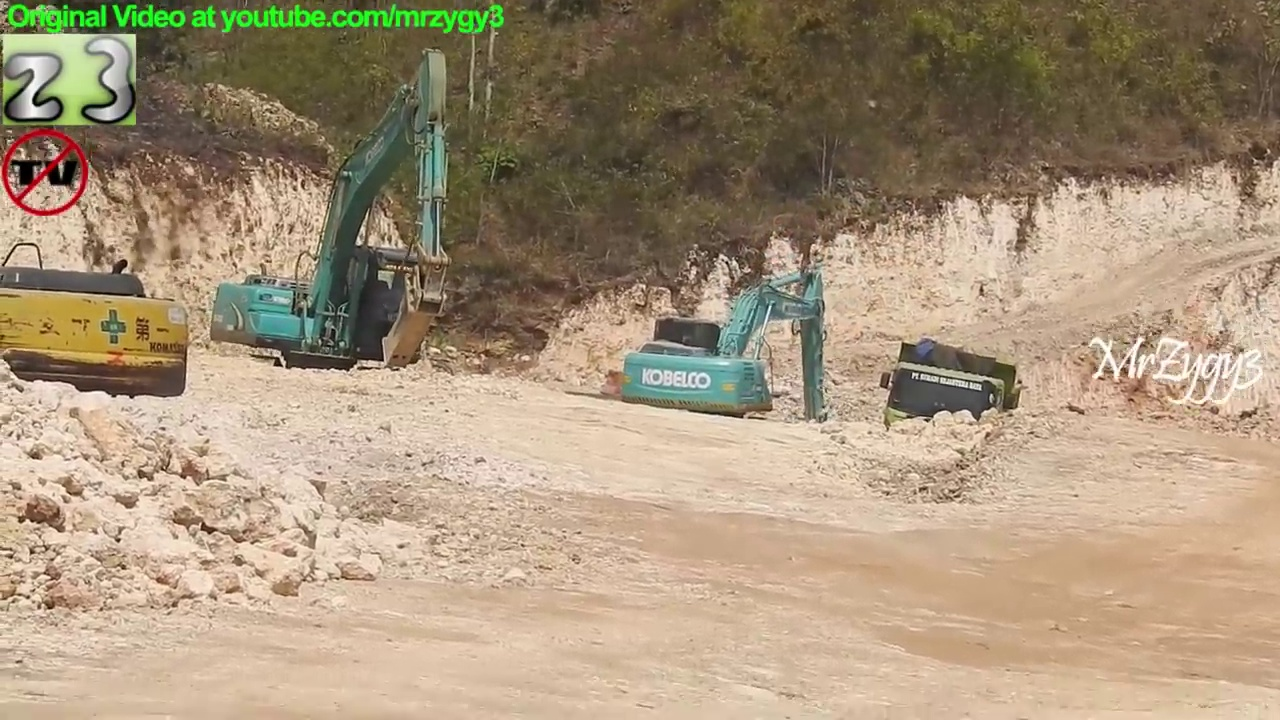excavator: (200, 43, 457, 398), (607, 257, 843, 459), (1, 240, 195, 420)
truck: (874, 333, 1031, 474)
